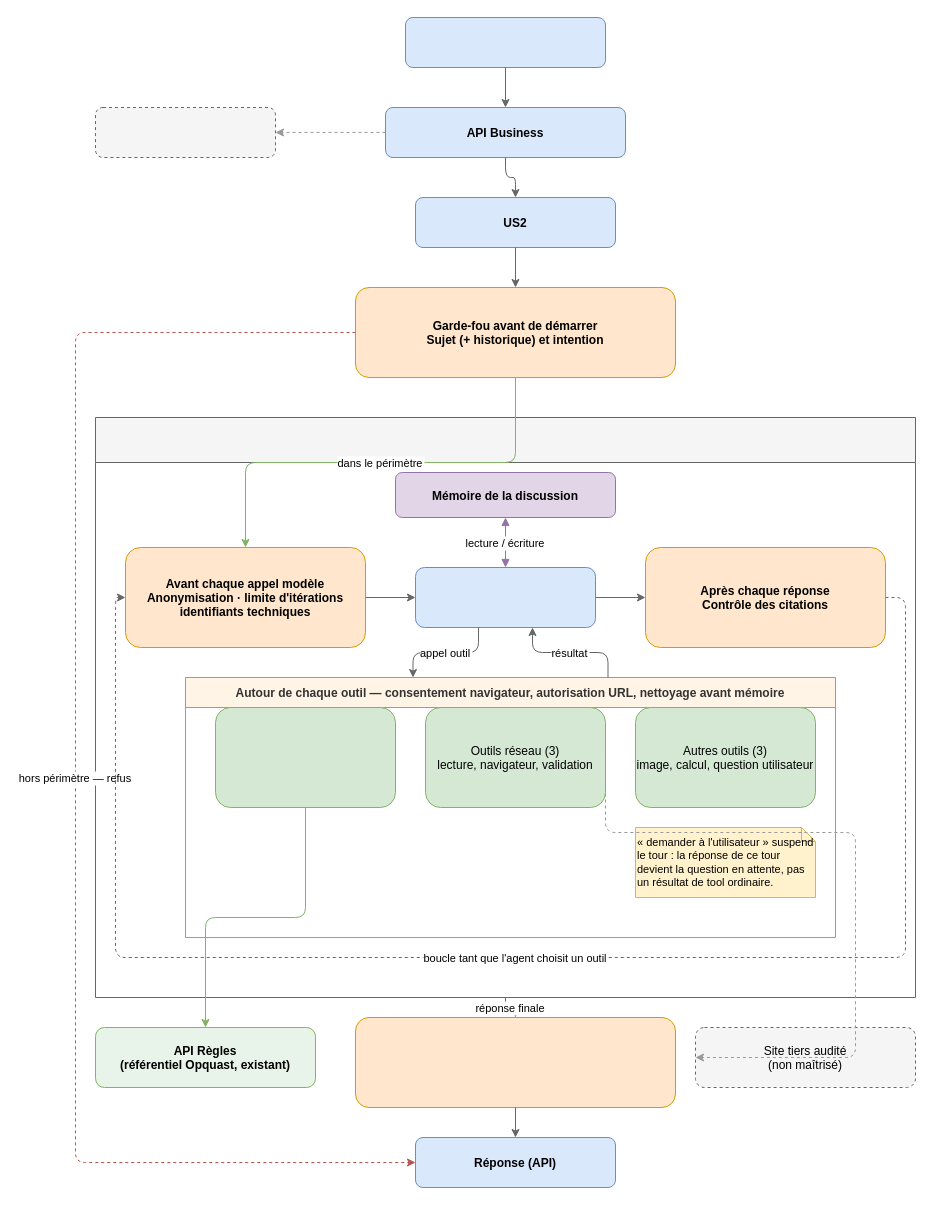
Some shapes in this 933 by 1205 pixel diagram are drawn without their labels. The shapes that lost their labels are listed below. From the top down, each one's box as (x1, y1, x2, y2) in pixels, then its label:
(404, 16, 606, 68): Client
(94, 106, 276, 158): US1 (hors périmètre ici)
(414, 566, 596, 628): LLM
(94, 416, 916, 998): Agent US2 — boucle de tool-calling
(214, 706, 396, 808): Outils référentiel (3) recherche règles, lookup
(354, 1016, 676, 1108): Garde-fou après la boucle Contrôle final avant envoi
